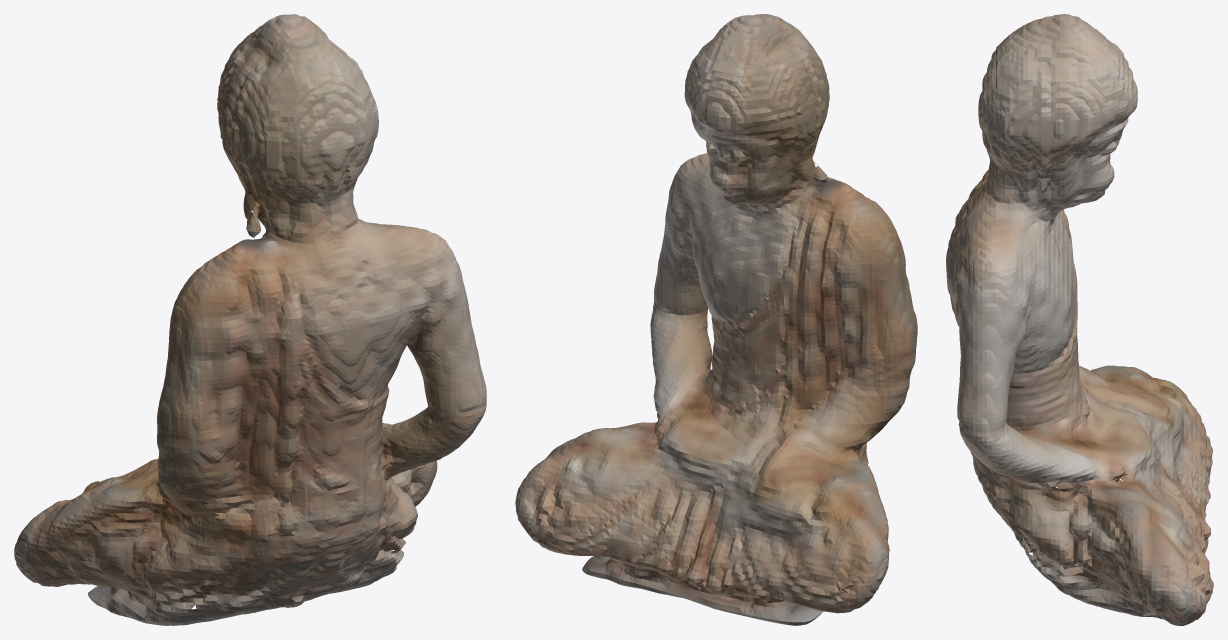
Rendered from buda-de-bali.glb.
The picture shows the model from 3 angles, left to right: view 1: azimuth 30°, elevation 25°; view 2: azimuth 150°, elevation 25°; view 3: azimuth 270°, elevation 25°; orthographic projection. The views are drawn at different scales.
Parts seen in each view (by area): view 1: geometry_0; view 2: geometry_0; view 3: geometry_0.
Boxes of the visible parts, bbox=[...] form: geometry_0: bbox=[14, 14, 486, 625]; geometry_0: bbox=[515, 14, 917, 625]; geometry_0: bbox=[946, 14, 1213, 625].
Bounding box in the file's own units: 0.645 × 0.9095 × 0.3989.
